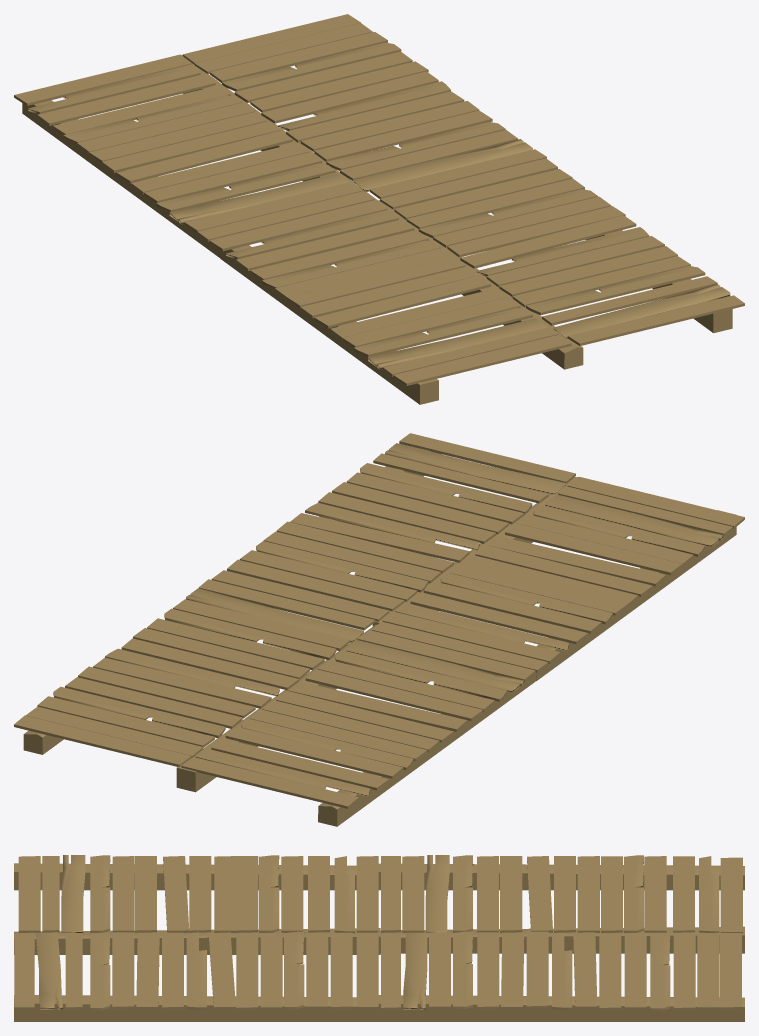
Rendered from Road_Beam_Double_01.fbx.
3 views of the same model, one above another, from view 1: azimuth 30°, elevation 25°; view 2: azimuth 150°, elevation 25°; view 3: azimuth 270°, elevation 25° (orthographic). The views are drawn at different scales.
Parts seen in each view (by area): view 1: Road_Beam_Double_01; view 2: Road_Beam_Double_01; view 3: Road_Beam_Double_01.
Part boxes in pixels (<box>): Road_Beam_Double_01: <box>14,14,744,404</box>; Road_Beam_Double_01: <box>14,433,744,826</box>; Road_Beam_Double_01: <box>14,855,744,1021</box>.
Bounding box in the file's own units: 297 × 18.81 × 599.
